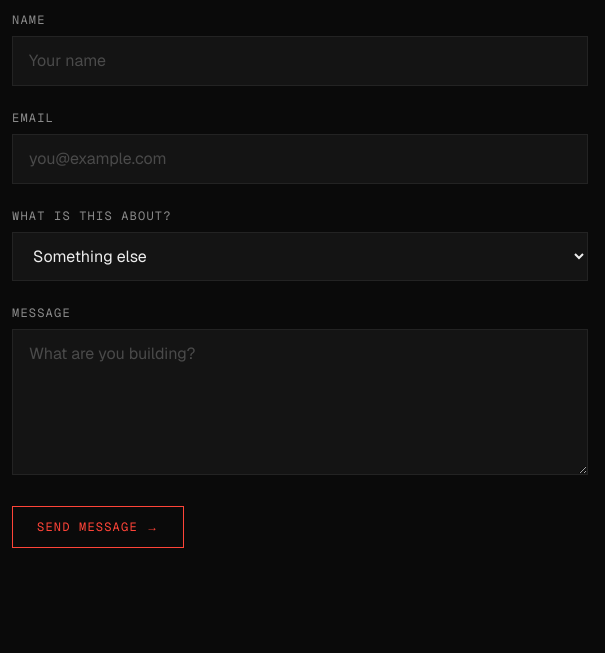
it: ContactForm › shows inline errors instead of submitting an empty form (FR-CONTACT-6)
This screenshot has width=605, height=653.
Click the button "Send message →". click: (98, 527)
box: [12, 506, 184, 548]
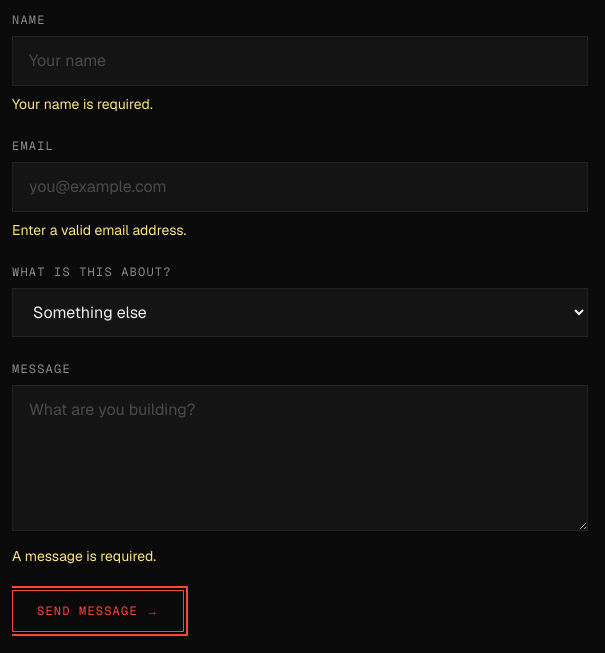
Expected: the text "Your name is required." is shown, [12, 95, 153, 113]
